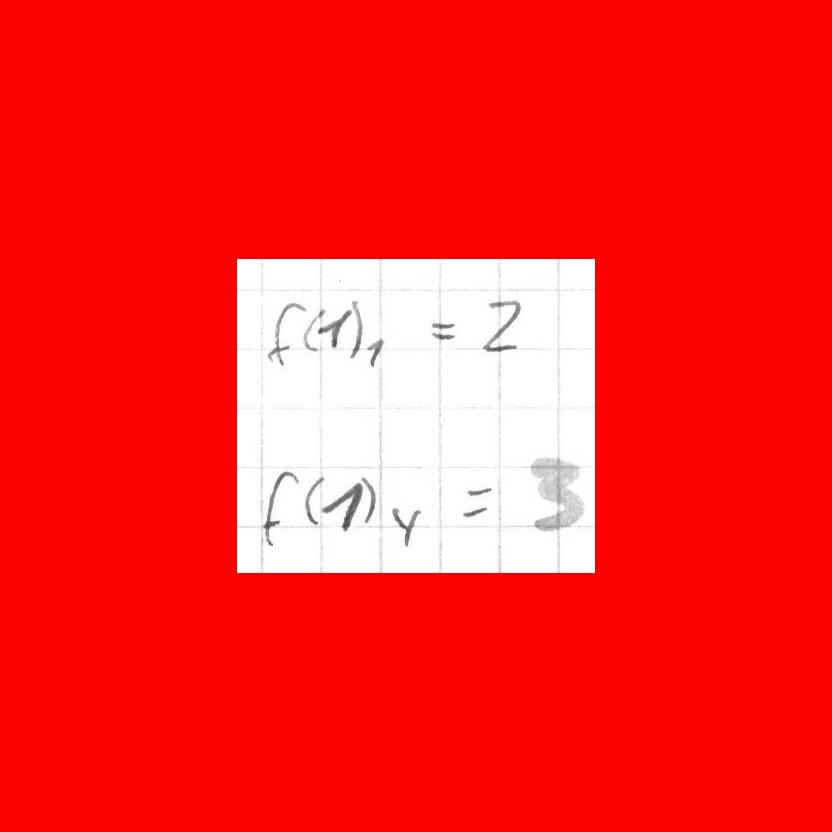Char: (257, 466, 301, 548), (264, 295, 307, 367), (477, 296, 524, 354), (320, 477, 365, 533), (457, 479, 497, 523), (315, 306, 353, 349), (389, 501, 421, 549), (301, 473, 327, 528), (300, 305, 324, 352), (348, 296, 364, 360), (360, 472, 378, 528), (428, 315, 460, 344), (363, 334, 383, 367)
